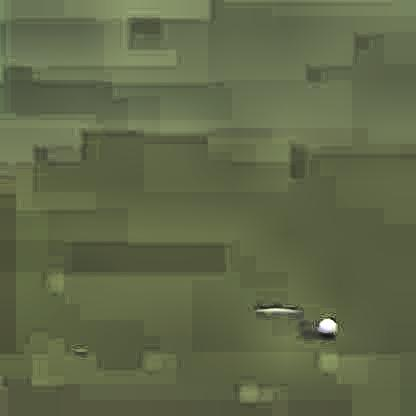golfball: (314, 314, 336, 337)
